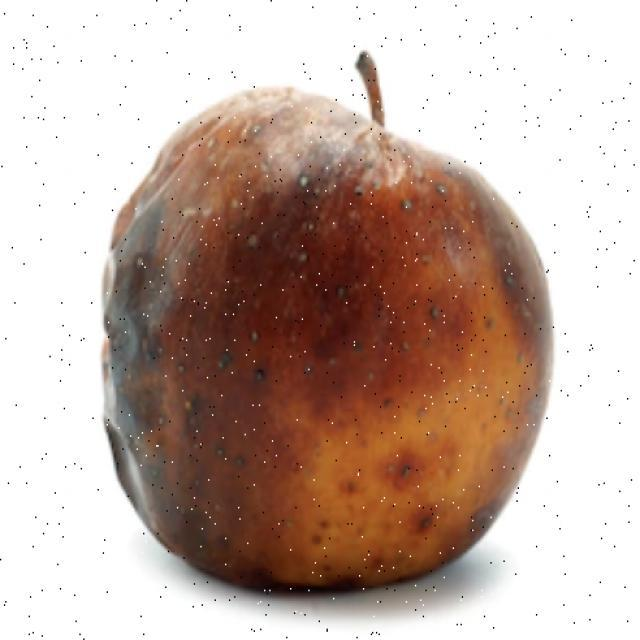Rotten: (99, 85, 564, 578)
